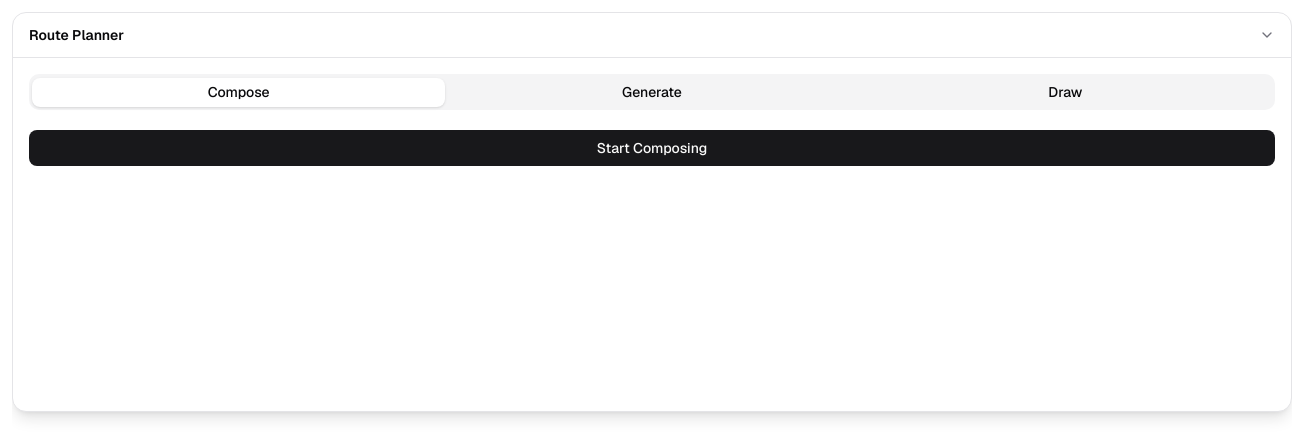
Scenario: RoutePlanner › switches back to Compose tab from Generate
Click the tab "Generate" at (652, 92), box [445,78,859,106]
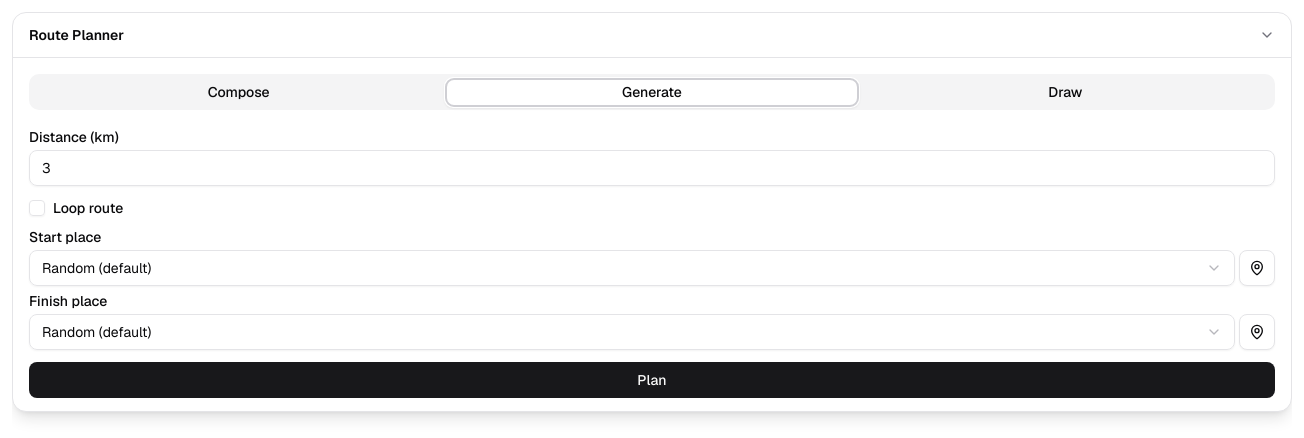
Click the tab "Compose" at (239, 92), box [32,78,445,106]
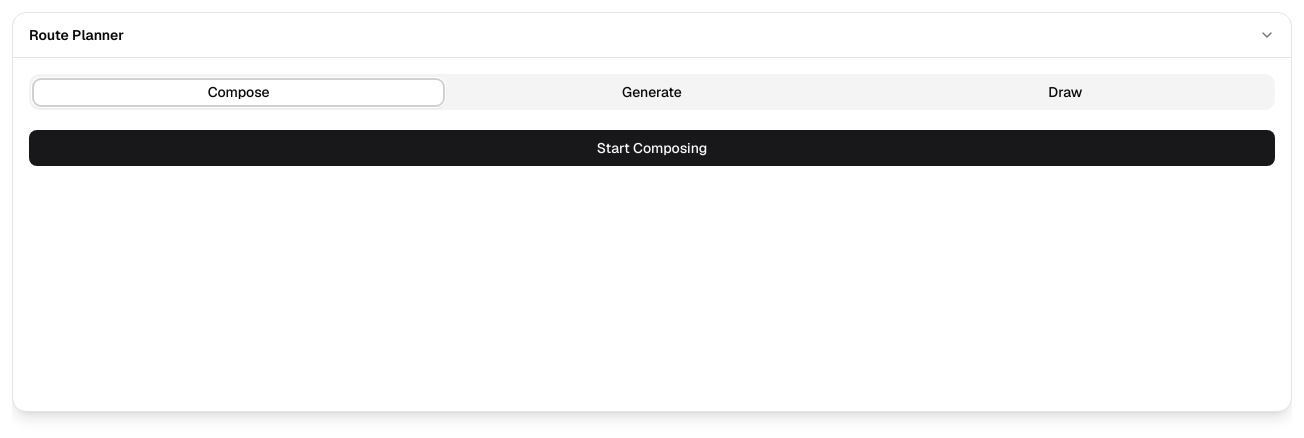
Check: the button "Start Composing" is shown, box [29,130,1275,166]
Check: the label labelled "Distance (km)" is gone
